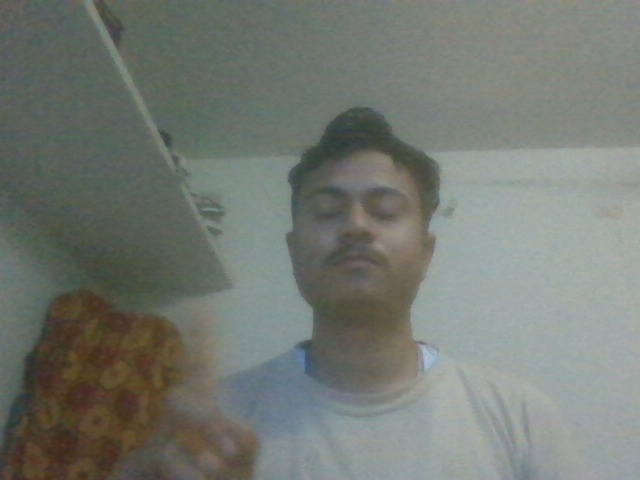No: (156, 300, 283, 480)
